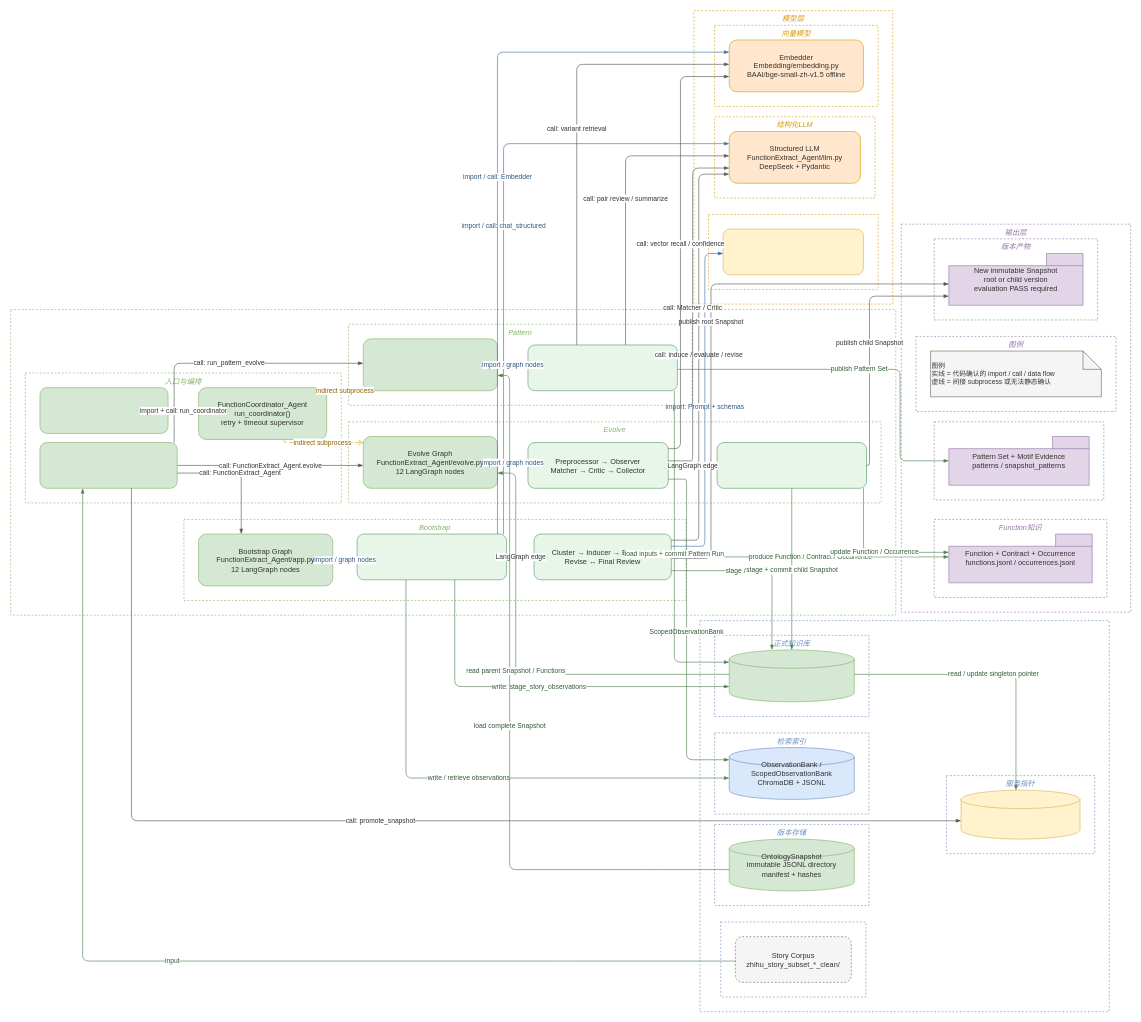
The diagram is 1141 pixels wide and 1022 high, and some of its shapes have lost their labels. The box of each missing label's shape, as (x1, y1, x2, y2) in pixels:
Evaluator_mid → Curator Rematch unresolved → Evaluator_final: (716, 442, 867, 488)
Pattern Graph StoryPattern_Agent/app.py 8 LangGraph nodes: (363, 338, 497, 391)
Pattern知识: (934, 421, 1104, 500)
Prompt/* + typed schemas Observer / Matcher / Evaluator / Pattern: (723, 228, 863, 275)
release_pipeline.py isolated candidate + release gates: (39, 387, 168, 433)
Sequences → Motifs → Pair Review Clusters → Summaries → Publish: (527, 344, 677, 391)
serving_snapshot_id pointer_id = 1 current service version: (960, 790, 1080, 839)
story_loader → Preprocessor → Observer Bank Adder → Retrieval → Pairs: (357, 533, 507, 580)
StoryCLI.run_function 公开 Bootstrap / Evolve / Pattern 入口: (39, 442, 177, 488)
StoryKnowledgeStore SQLite formal DB story_knowledge.db: (729, 649, 854, 702)
处理层: (10, 309, 896, 615)
提示与Schema: (708, 214, 878, 289)
数据层: (699, 620, 1109, 1012)
语料输入: (720, 921, 866, 997)
